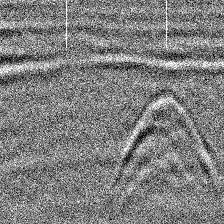Utility: (112, 87, 220, 196)
